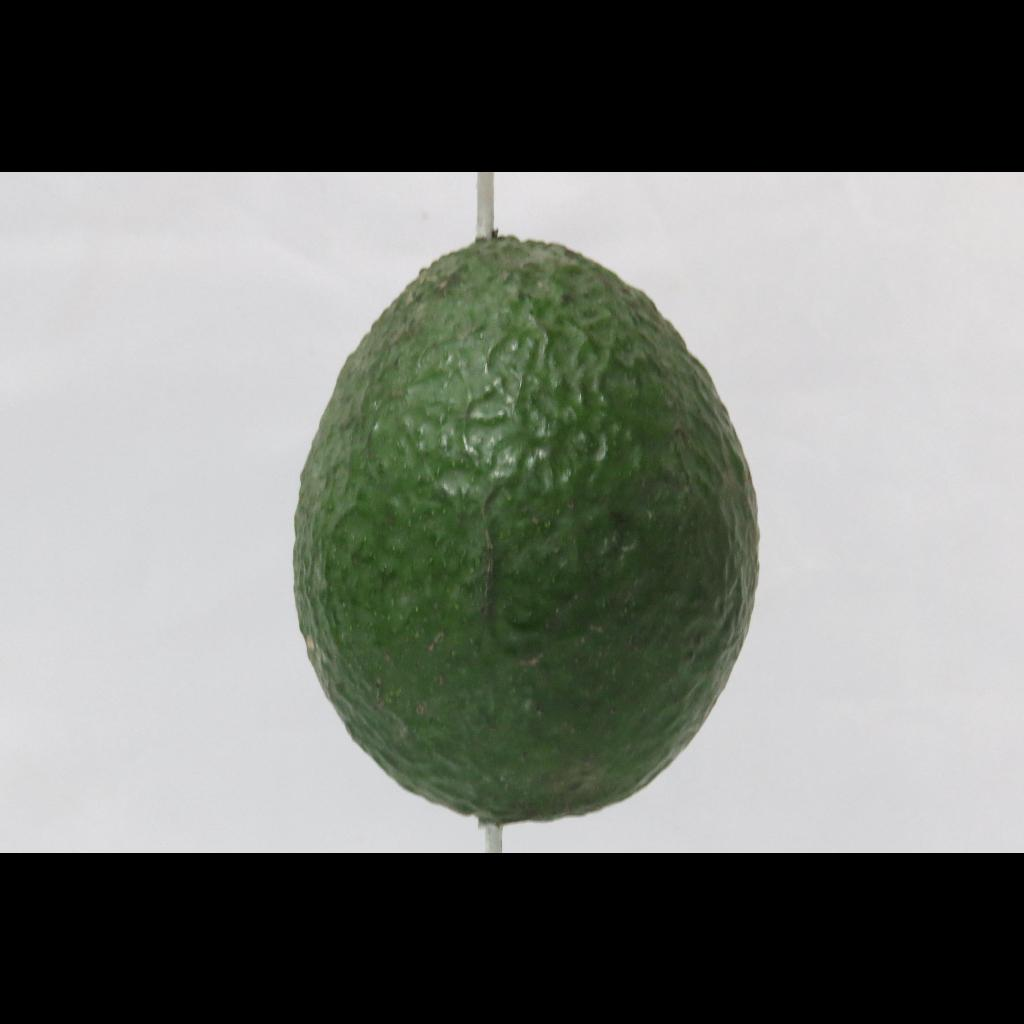Healthy: (194, 198, 826, 840)
